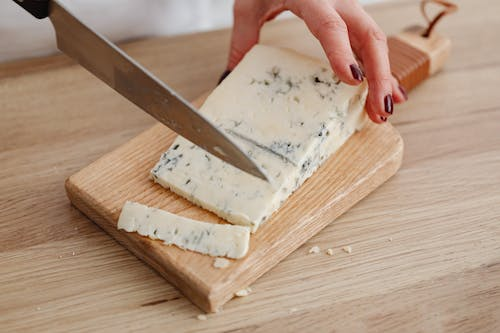knife: (11, 0, 271, 185)
